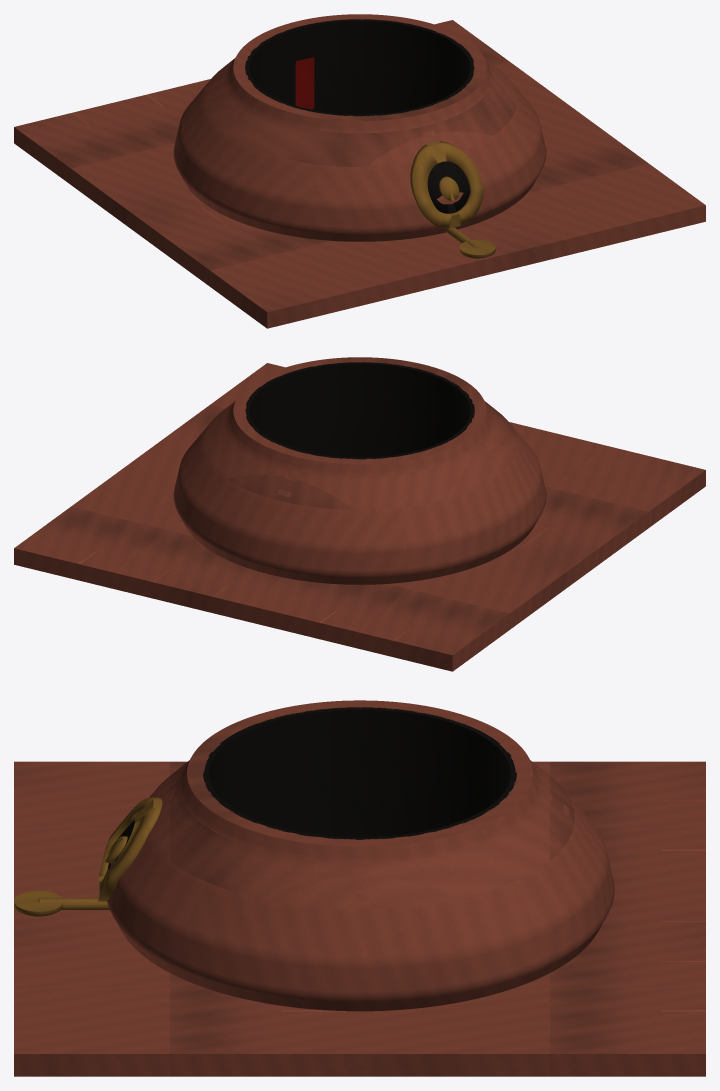
The picture shows the model from 3 angles, top to bottom: view 1: azimuth 30°, elevation 25°; view 2: azimuth 150°, elevation 25°; view 3: azimuth 270°, elevation 25°; orthographic projection. The views are drawn at different scales.
Visible parts, largest first — view 1: BR19 square hollow foundation, BR19 tapered rose shell, BR19 inner structural liner, BR19 broad gold face rim, BR19 dark face backing, BR19 low foundation fitting; view 2: BR19 square hollow foundation, BR19 tapered rose shell, BR19 inner structural liner; view 3: BR19 square hollow foundation, BR19 tapered rose shell, BR19 inner structural liner, BR19 broad gold face rim, BR19 low foundation fitting, BR19 front gold connection.
Part boxes in pixels (left/top/right/bottom): BR19 square hollow foundation: left=14, top=20, right=705, bottom=328; BR19 tapered rose shell: left=173, top=14, right=546, bottom=241; BR19 inner structural liner: left=245, top=19, right=474, bottom=116; BR19 broad gold face rim: left=410, top=141, right=483, bottom=228; BR19 dark face backing: left=427, top=161, right=470, bottom=213; BR19 low foundation fitting: left=459, top=239, right=495, bottom=258; BR19 square hollow foundation: left=14, top=363, right=705, bottom=671; BR19 tapered rose shell: left=173, top=357, right=546, bottom=584; BR19 inner structural liner: left=245, top=362, right=474, bottom=459; BR19 square hollow foundation: left=14, top=761, right=705, bottom=1076; BR19 tapered rose shell: left=107, top=700, right=614, bottom=1011; BR19 inner structural liner: left=203, top=707, right=516, bottom=839; BR19 broad gold face rim: left=98, top=797, right=162, bottom=901; BR19 low foundation fitting: left=14, top=890, right=62, bottom=916; BR19 front gold connection: left=38, top=898, right=109, bottom=909.
Size of the model in its own units: 2.8 by 0.7 by 2.8.
Materials: 4 (4 with a texture image).
